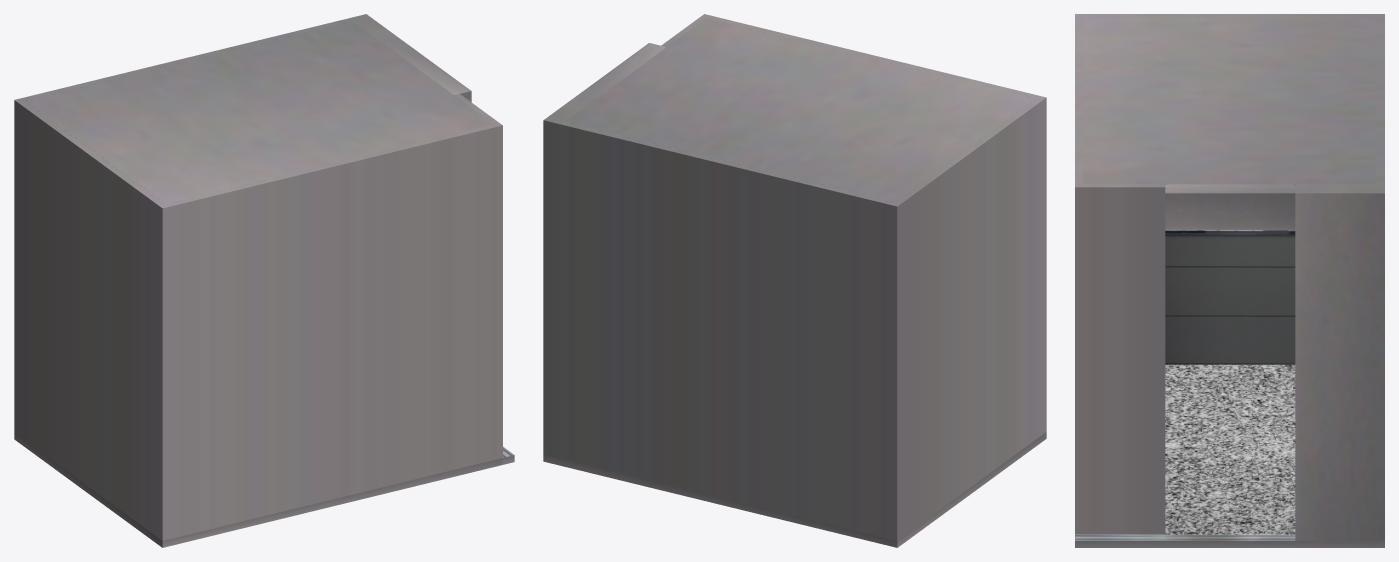
The model's file is Elevator.dae.
3 views of the same model, side by side, from view 1: azimuth 30°, elevation 25°; view 2: azimuth 150°, elevation 25°; view 3: azimuth 270°, elevation 25° (orthographic). The views are drawn at different scales.
Parts seen in each view (by area): view 1: Ascensor; view 2: Ascensor; view 3: Ascensor.
Part boxes in pixels (x1,y1,x2,y2): Ascensor: (14, 14, 514, 547); Ascensor: (543, 14, 1046, 547); Ascensor: (1075, 14, 1384, 547).
Size of the model in its own units: 260 by 190 by 240.
1 material, 1 textured.
